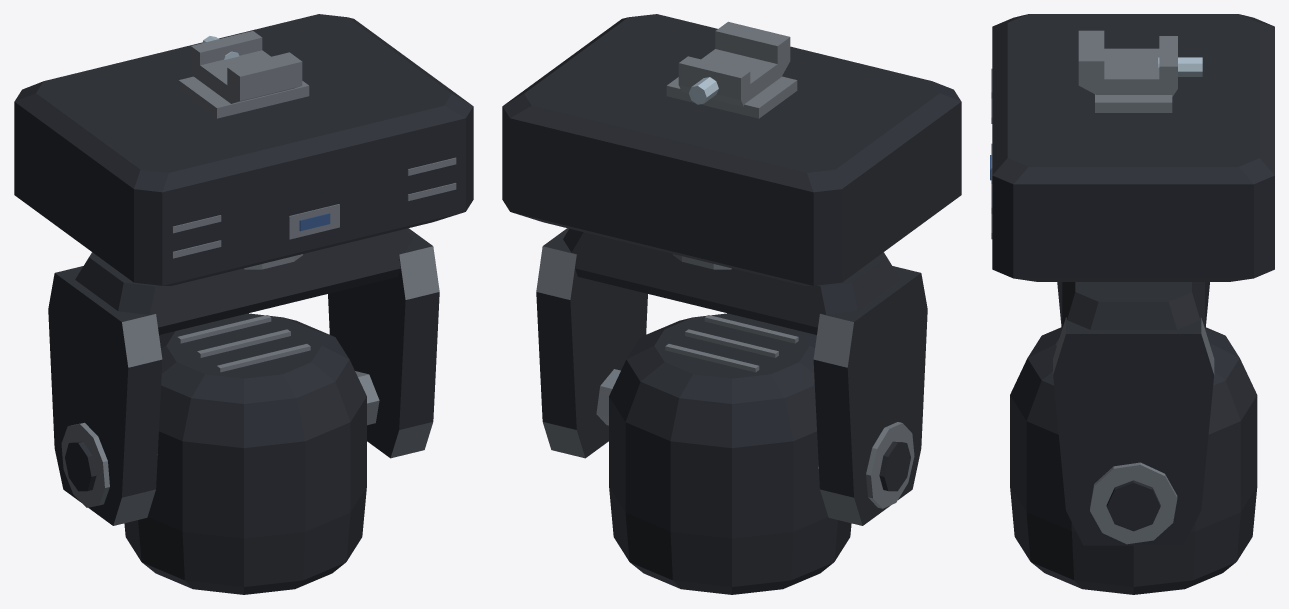
The model's file is moving_head.glb.
The picture shows the model from 3 angles, left to right: view 1: azimuth 30°, elevation 25°; view 2: azimuth 150°, elevation 25°; view 3: azimuth 270°, elevation 25°; orthographic projection.
Parts seen in each view (by area): view 1: base, head, yoke; view 2: base, head, yoke; view 3: base, yoke, head.
Part boxes in pixels (x1,y1,x2,y2): base: (14,14,473,285); head: (124,313,366,594); yoke: (48,228,439,525); base: (502,14,961,285); head: (609,313,851,594); yoke: (536,228,927,525); base: (990,14,1274,281); yoke: (1053,282,1214,545); head: (1010,327,1257,594).
Size of the model in its own units: 0.338 by 0.478 by 0.244.
Materials: 1 (1 with a texture image).
